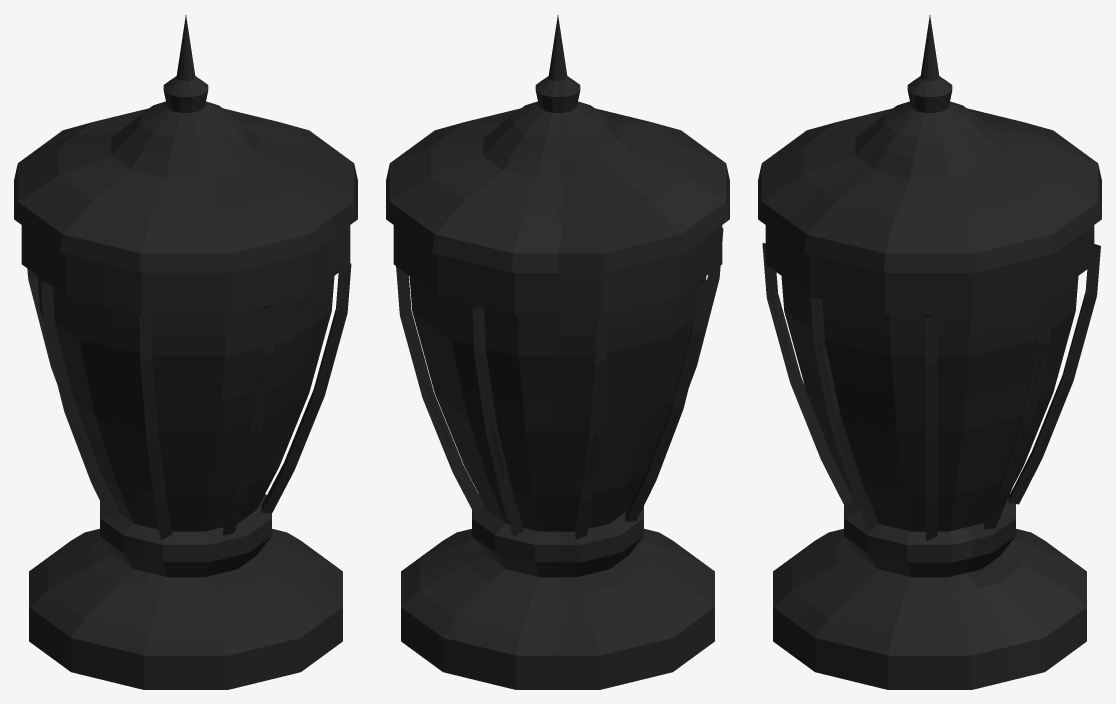
The model's file is decolight_lbcalheightslantern_inv.obj.
The picture shows the model from 3 angles, left to right: view 1: azimuth 30°, elevation 25°; view 2: azimuth 150°, elevation 25°; view 3: azimuth 270°, elevation 25°; orthographic projection.
Visible parts, largest first — view 1: decolight_lbcalheightslantern_inv; view 2: decolight_lbcalheightslantern_inv; view 3: decolight_lbcalheightslantern_inv.
Part boxes in pixels (x1,y1,x2,y2): decolight_lbcalheightslantern_inv: (14,15,357,689); decolight_lbcalheightslantern_inv: (386,15,729,689); decolight_lbcalheightslantern_inv: (758,15,1101,689).
Size of the model in its own units: 0.4985 by 0.975 by 0.4985.
